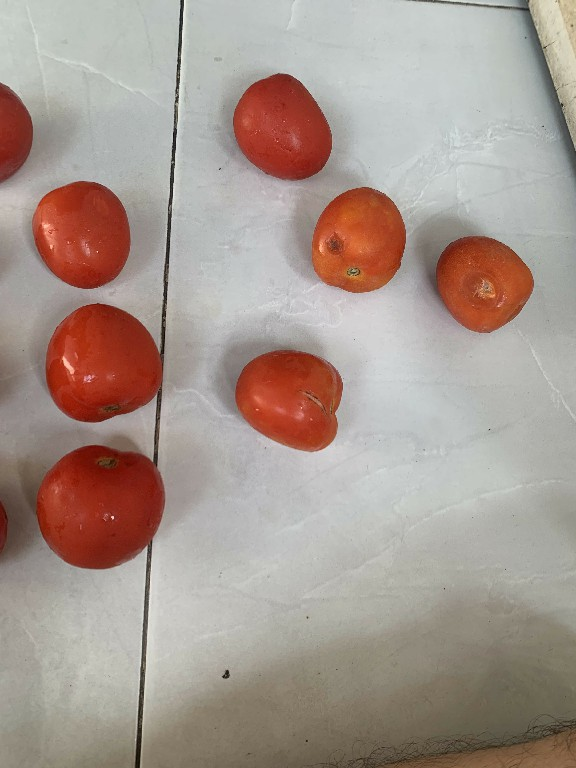NG: (231, 341, 348, 458), (311, 185, 408, 296), (432, 228, 533, 333)
OK: (35, 439, 165, 575), (39, 301, 166, 426), (28, 173, 136, 290), (221, 66, 332, 175)
